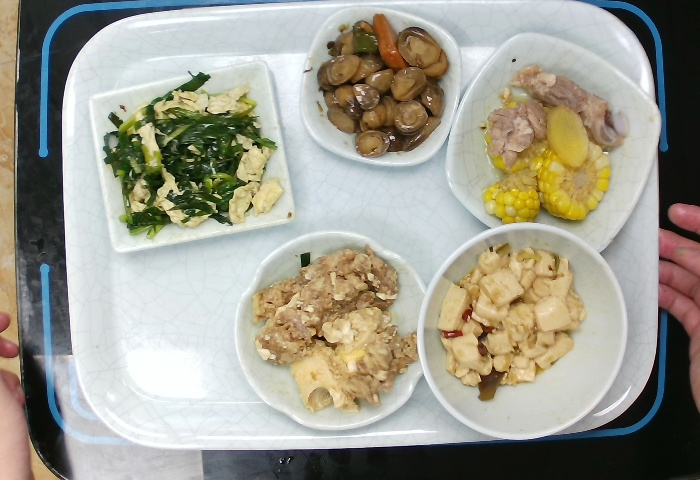JYsf-Ao_Yuan_Wan: (233, 226, 432, 431)
JYsf-Fan_Wan: (413, 220, 635, 442)
JYsf-Si_Fang_Die: (298, 2, 466, 170)
WCQzf-Da_Si_Fang_Die: (438, 29, 667, 255)
WCQzf-Ru_Ci_Si_Fang_Die: (84, 61, 301, 261)
